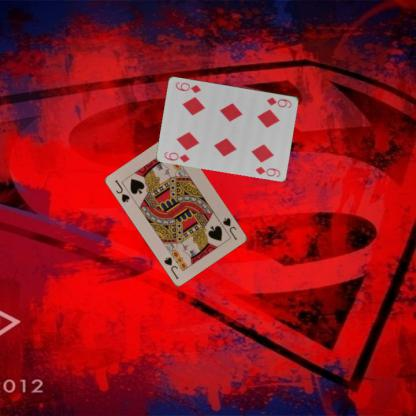6d: (264, 94, 293, 109), (162, 149, 191, 164)
Js: (112, 177, 131, 204), (220, 215, 239, 241)
